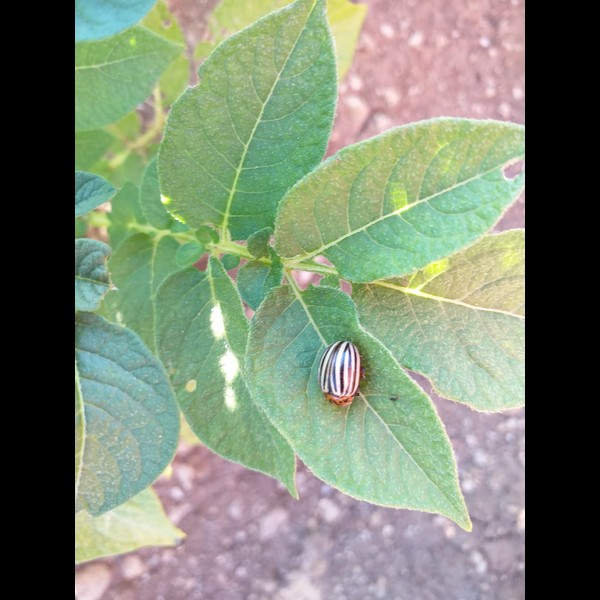hrosc: (317, 336, 366, 409)
